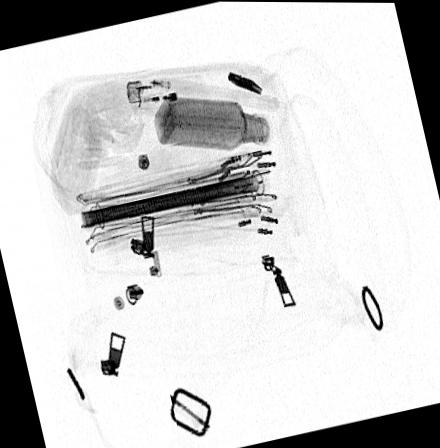Lighter: (125, 71, 189, 110)
